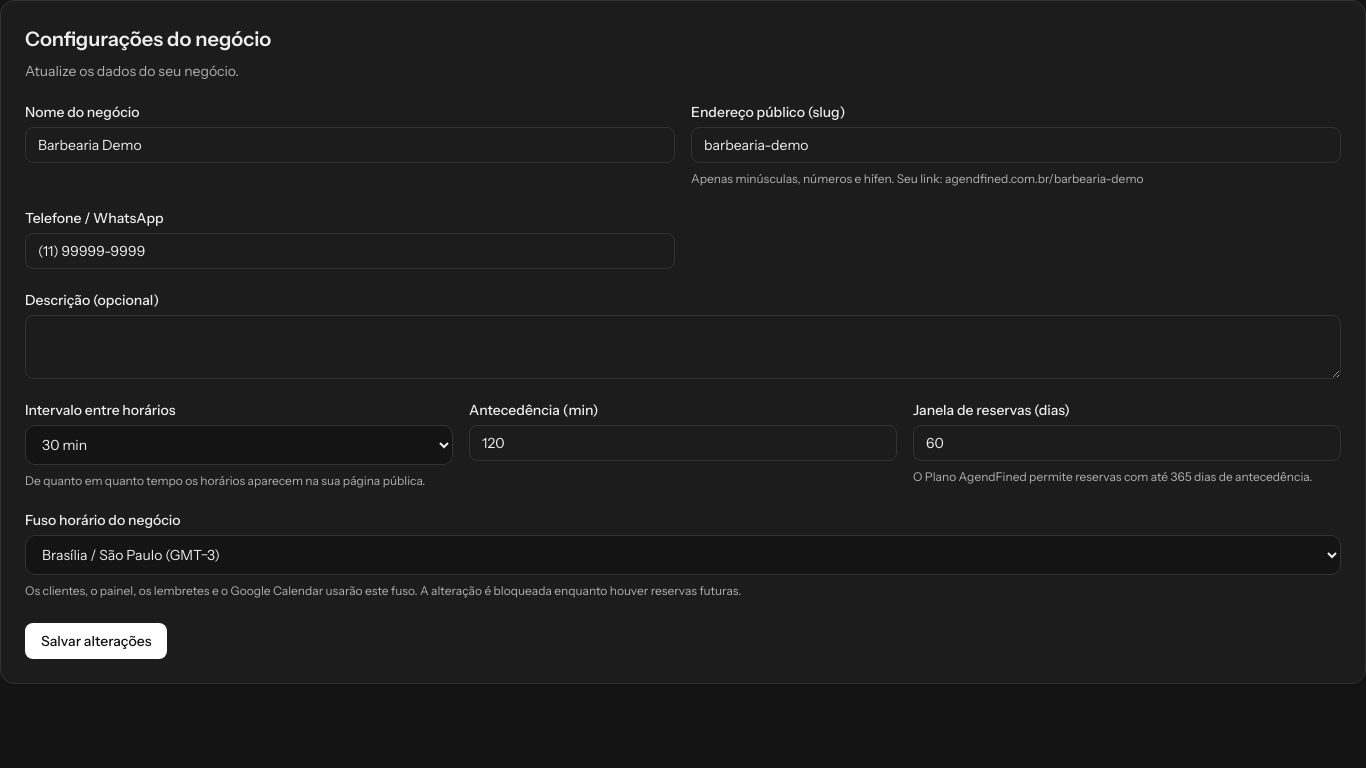
Test case: polimento pós-beta (#149) › volta o slug para o salvo quando o dono mantém o endereço atual
Replace the text in the field labelled "Endereço público (slug)" with "barbearia-nova". click: (1016, 145)
box: [691, 127, 1341, 163]
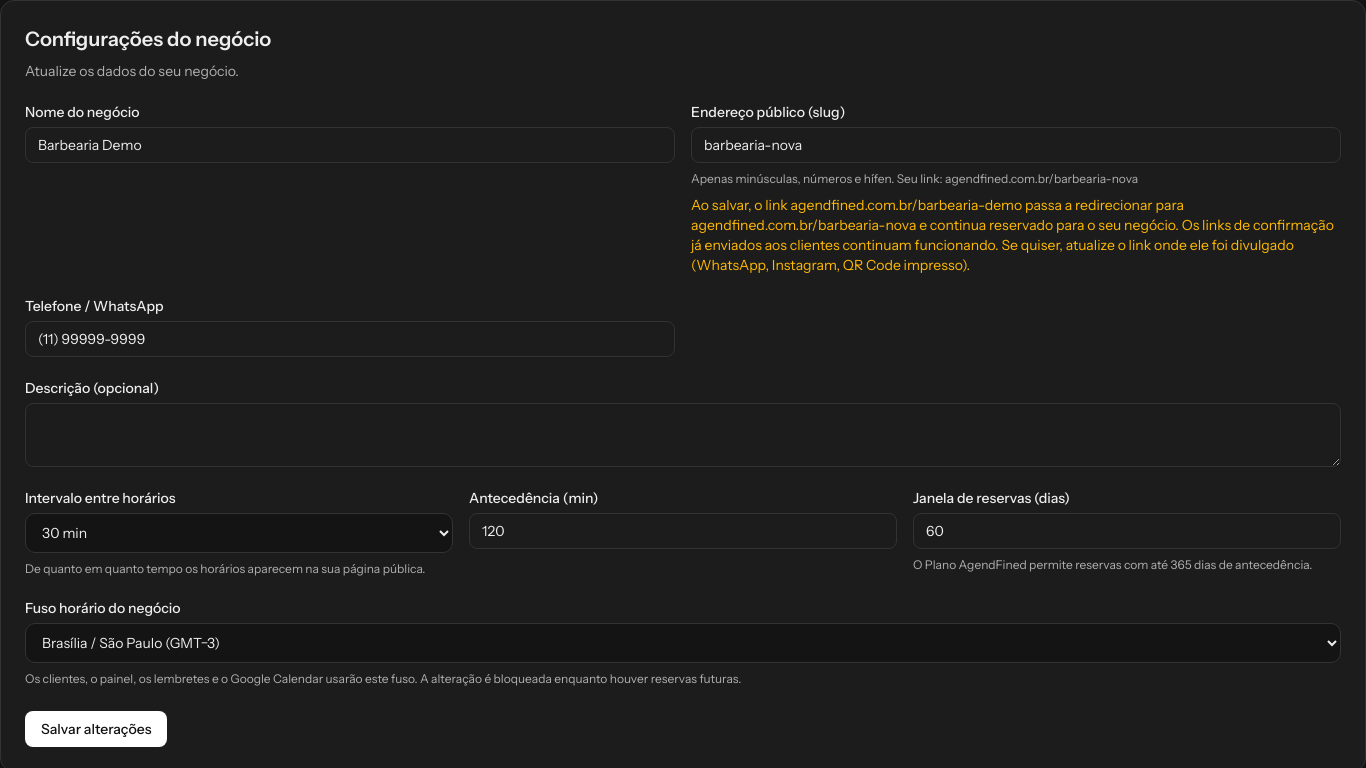
Click the button "Salvar alterações". click: (96, 729)
box: [25, 711, 167, 747]
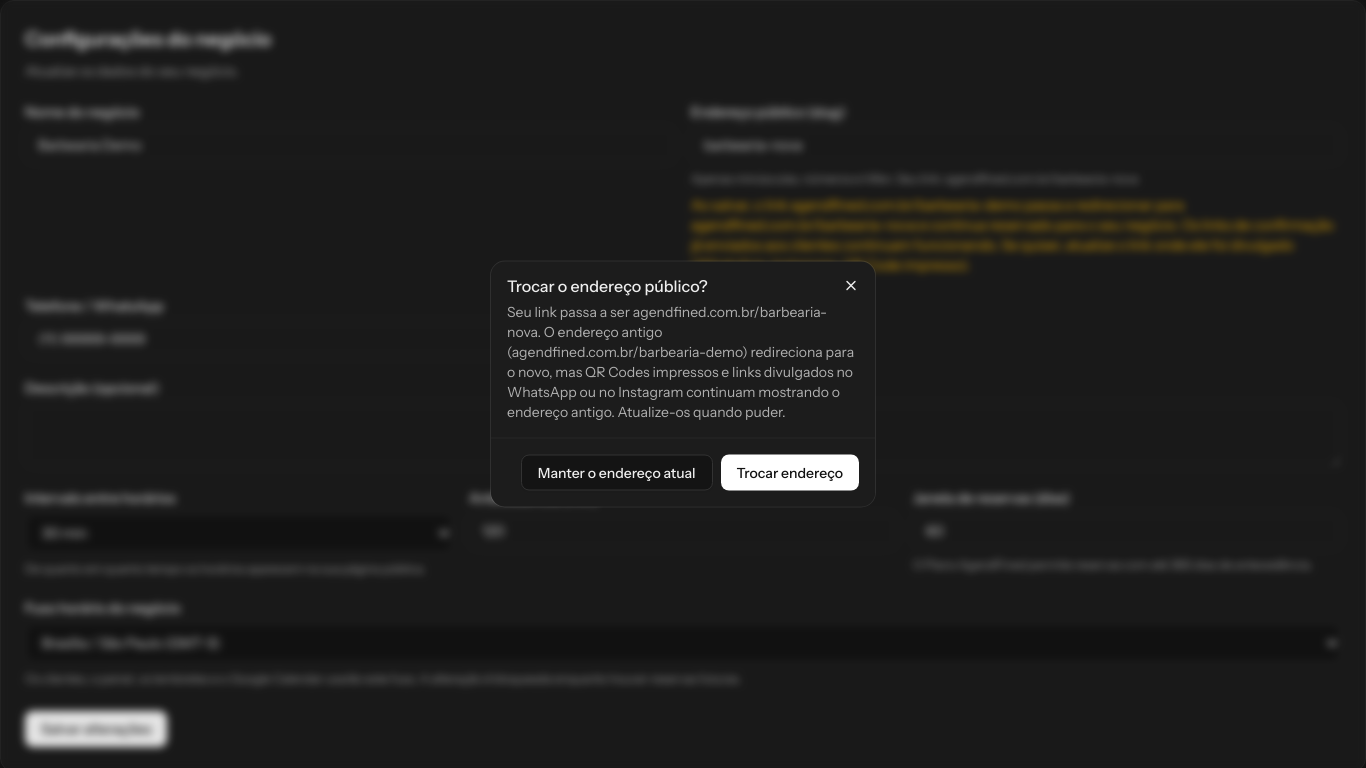
Click the button "Manter o endereço atual". click: (617, 472)
box: [521, 454, 712, 490]
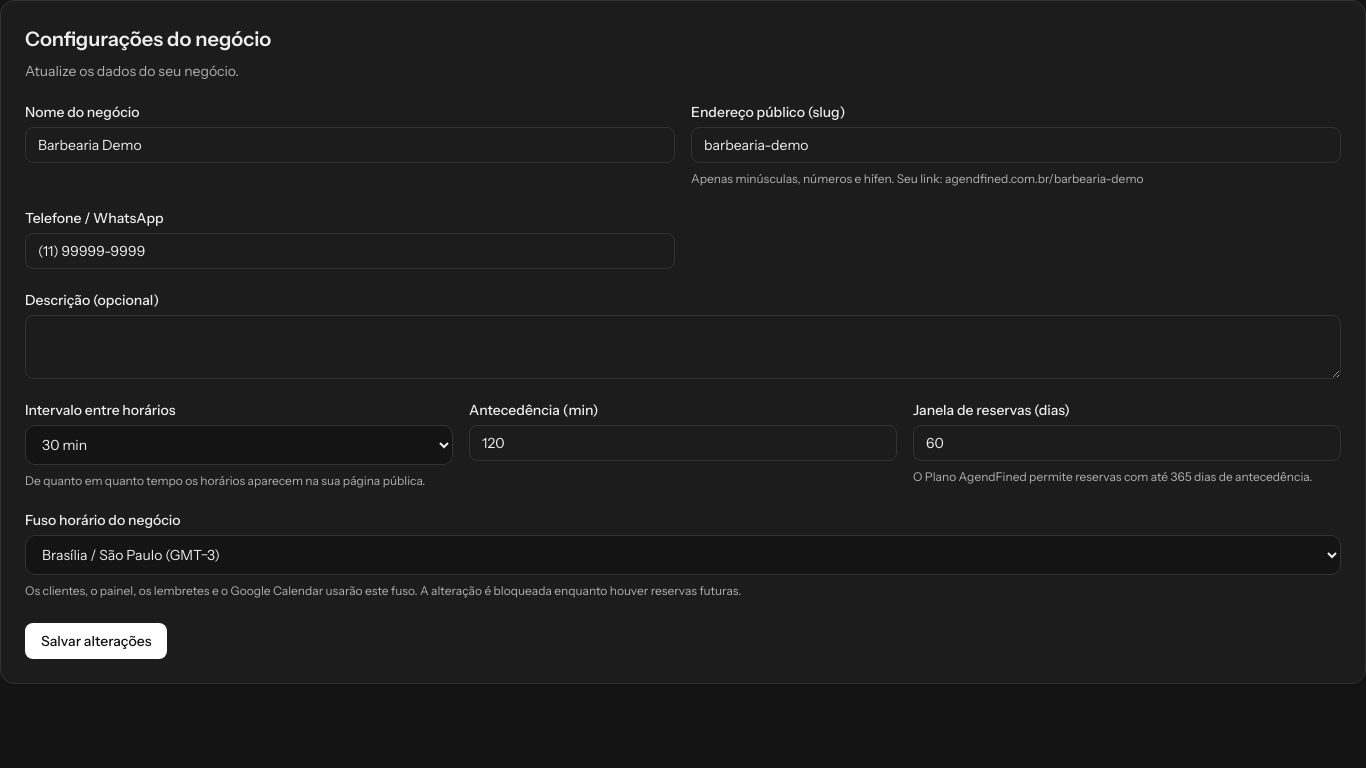
Expected: the field labelled "Endereço público (slug)" holds "barbearia-demo", [691, 127, 1341, 163]
Expected: the text "Seu link: agendfined.com.br/barbearia-demo" is shown, [691, 171, 1144, 186]
Expected: the text "passa a redirecionar" is gone
